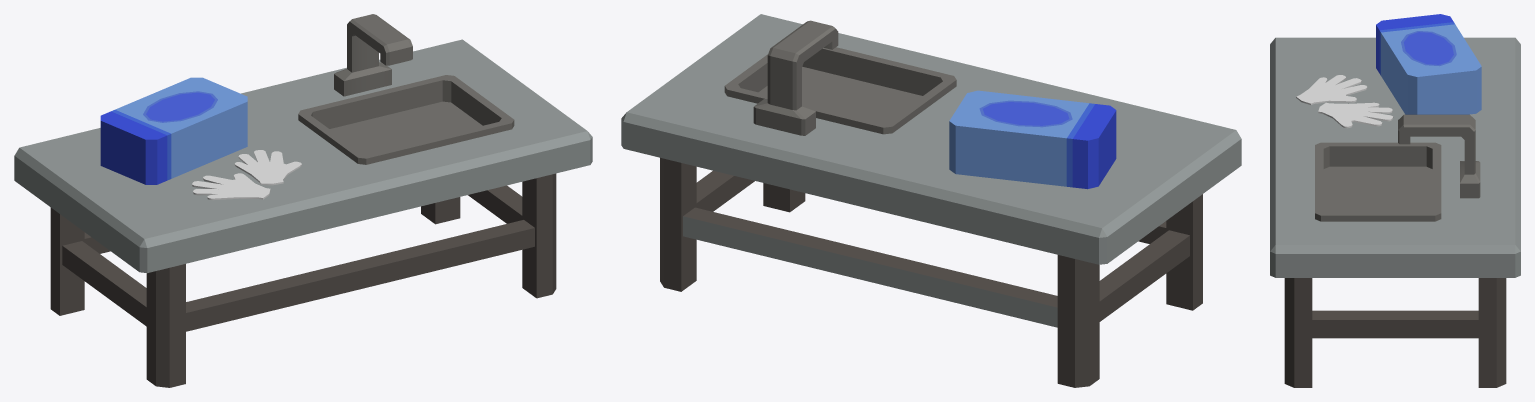
Rendered from J_Sink.fbx.
3 renders of one model, left to right at view 1: azimuth 30°, elevation 25°; view 2: azimuth 150°, elevation 25°; view 3: azimuth 270°, elevation 25°, orthographic. The views are drawn at different scales.
Parts seen in each view (by area): view 1: Sink, GloveBox, Gloves; view 2: Sink, GloveBox; view 3: Sink, GloveBox, Gloves.
Part boxes in pixels (x1=…): Sink: x1=14, y1=14, x2=592, y2=387; GloveBox: x1=100, y1=77, x2=247, y2=184; Gloves: x1=192, y1=150, x2=301, y2=200; Sink: x1=621, y1=14, x2=1241, y2=387; GloveBox: x1=949, y1=90, x2=1116, y2=189; Sink: x1=1270, y1=37, x2=1520, y2=387; GloveBox: x1=1376, y1=14, x2=1481, y2=114; Gloves: x1=1296, y1=75, x2=1393, y2=128.
Bounding box in the file's own units: 200 × 97.03 × 100.
